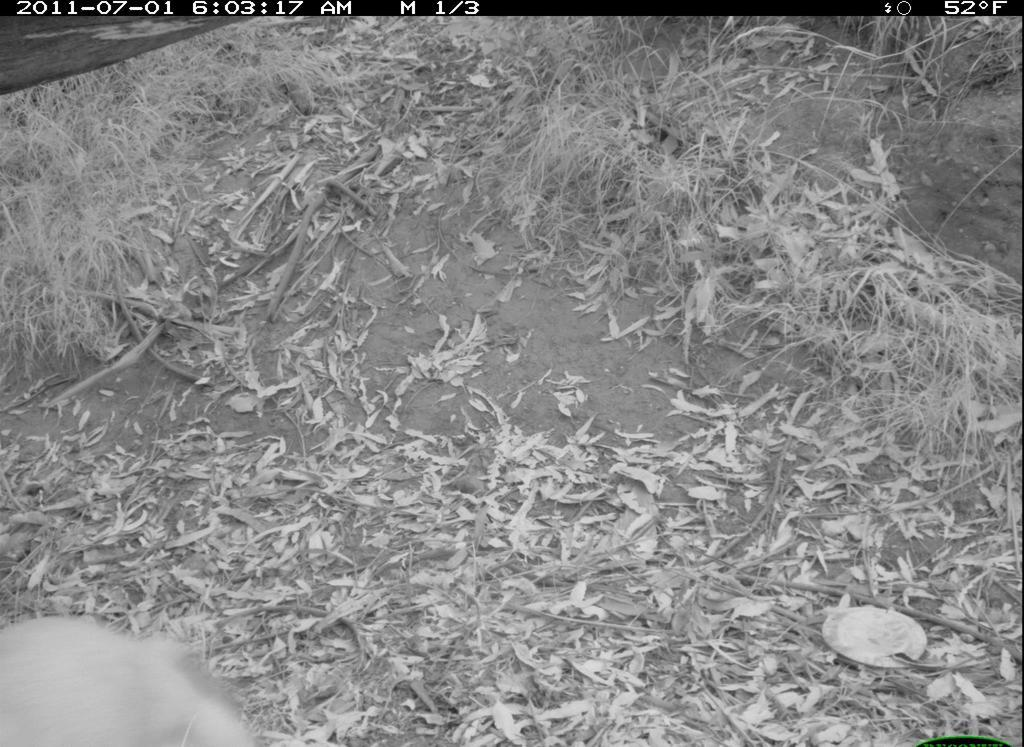dog: (4, 591, 278, 745)
